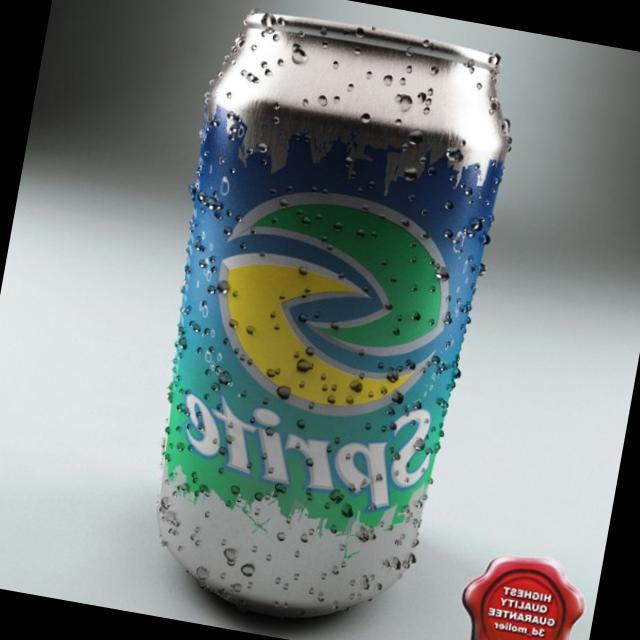sprite: (114, 0, 570, 636)
